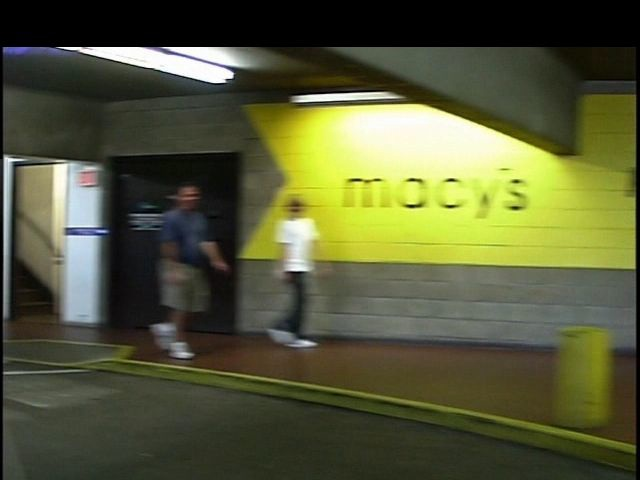person: (130, 177, 218, 364), (238, 189, 321, 361)
